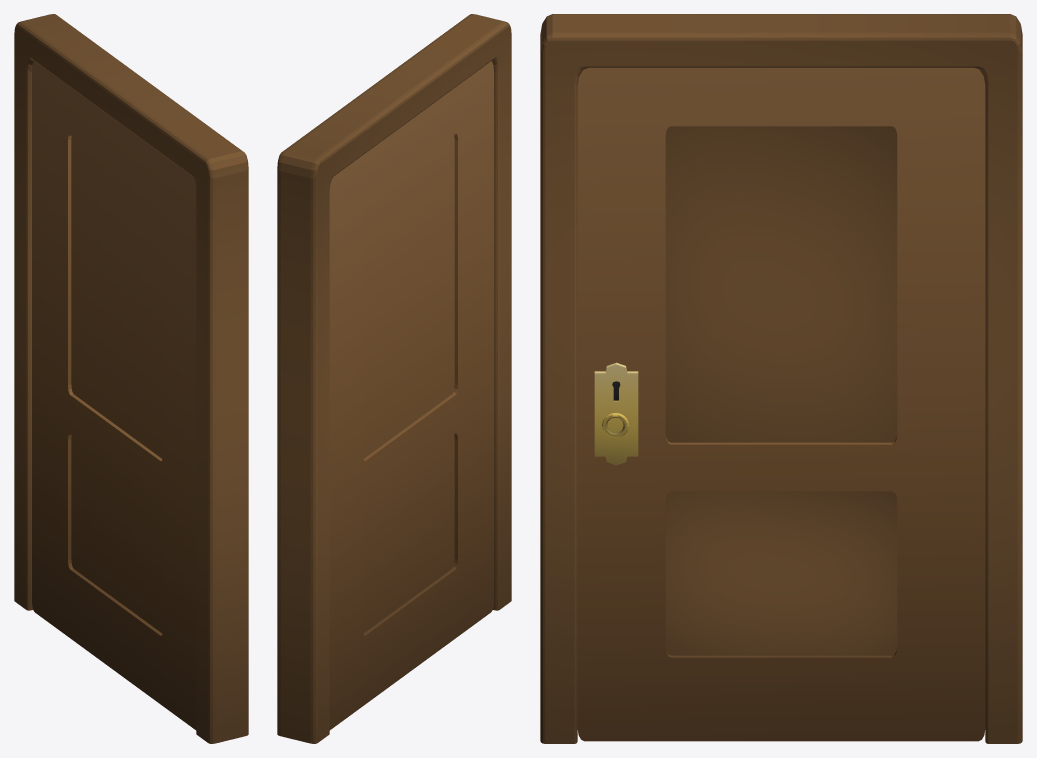
Rendered from doorModel.fbx.
3 renders of one model, left to right at view 1: azimuth 30°, elevation 25°; view 2: azimuth 150°, elevation 25°; view 3: azimuth 270°, elevation 25°, orthographic. The views are drawn at different scales.
Parts seen in each view (by area): view 1: Door, Door_Frame; view 2: Door, Door_Frame; view 3: Door, Door_Frame, Knob.
Boxes of the visible parts, bbox=[...] form: Door: bbox=[32, 61, 196, 730]; Door_Frame: bbox=[14, 14, 248, 743]; Door: bbox=[329, 61, 493, 730]; Door_Frame: bbox=[277, 14, 511, 743]; Door: bbox=[577, 67, 985, 741]; Door_Frame: bbox=[540, 14, 1022, 743]; Knob: bbox=[594, 362, 638, 465].
Size of the model in its own units: 14.37 by 194 by 120.
